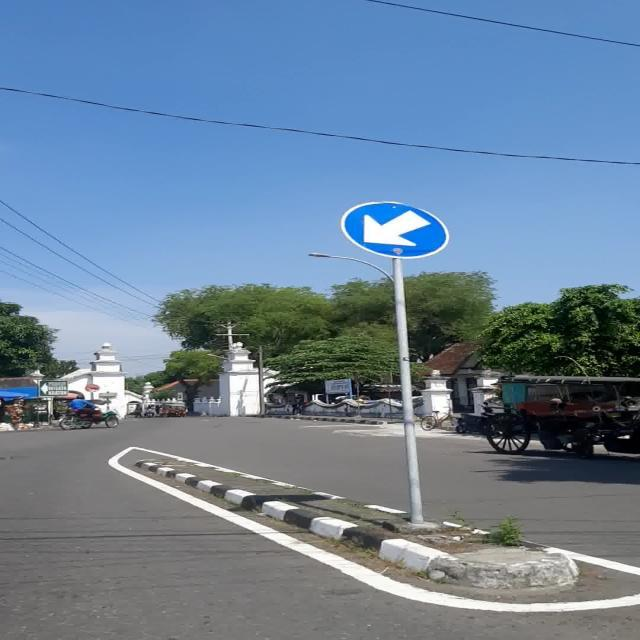Lajur Kiri: (340, 201, 450, 259)
